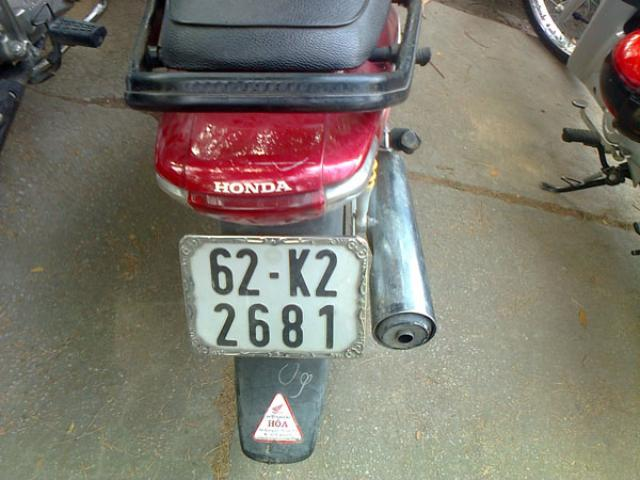plate: (182, 236, 360, 360)
